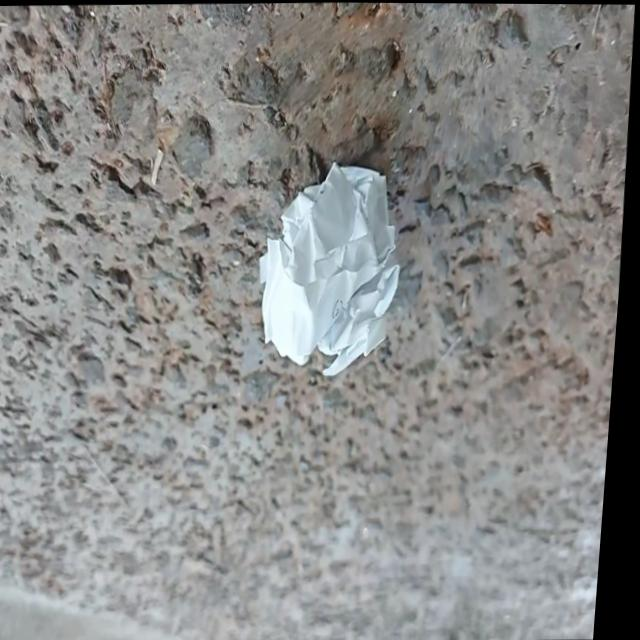paper: (260, 164, 398, 375)
